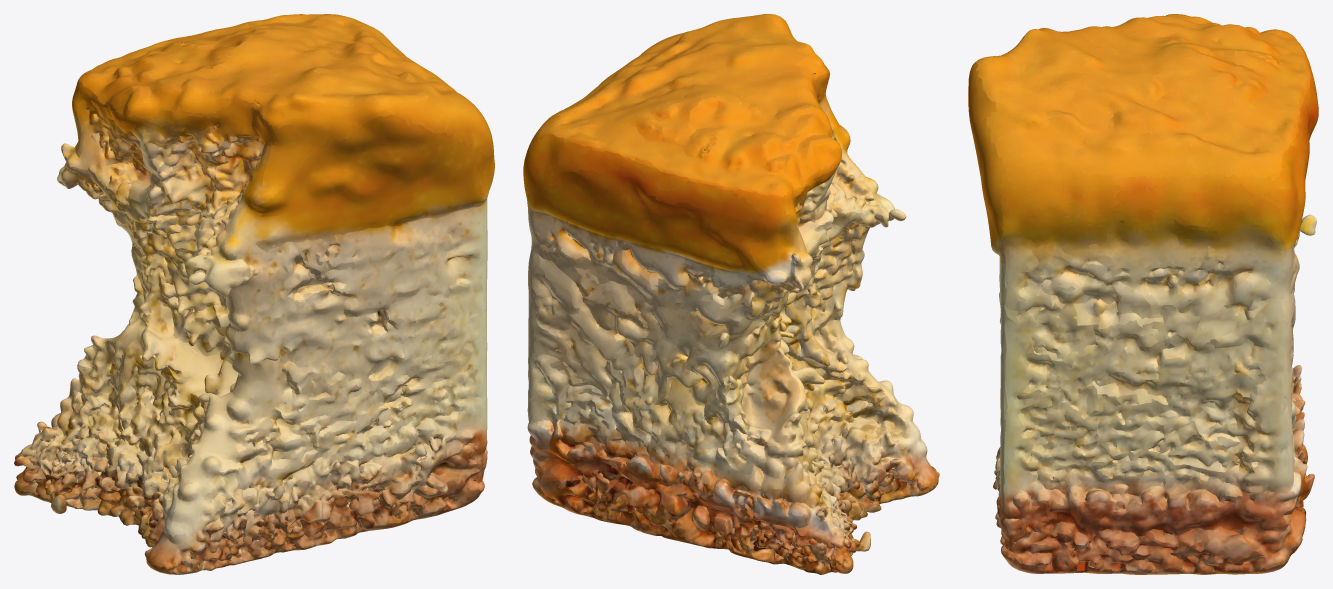
Rendered from mango-cheesecake-3.glb.
3 views of the same model, side by side, from view 1: azimuth 30°, elevation 25°; view 2: azimuth 150°, elevation 25°; view 3: azimuth 270°, elevation 25° (orthographic). The views are drawn at different scales.
Parts seen in each view (by area): view 1: FoodRedoV2Alignment-0; view 2: FoodRedoV2Alignment-0; view 3: FoodRedoV2Alignment-0.
Boxes of the visible parts, <box> form: FoodRedoV2Alignment-0: <box>14,14,494,574</box>; FoodRedoV2Alignment-0: <box>523,14,939,574</box>; FoodRedoV2Alignment-0: <box>968,14,1318,574</box>.
Size of the model in its own units: 0.0612 by 0.074 by 0.0504.
1 material, 1 textured.
